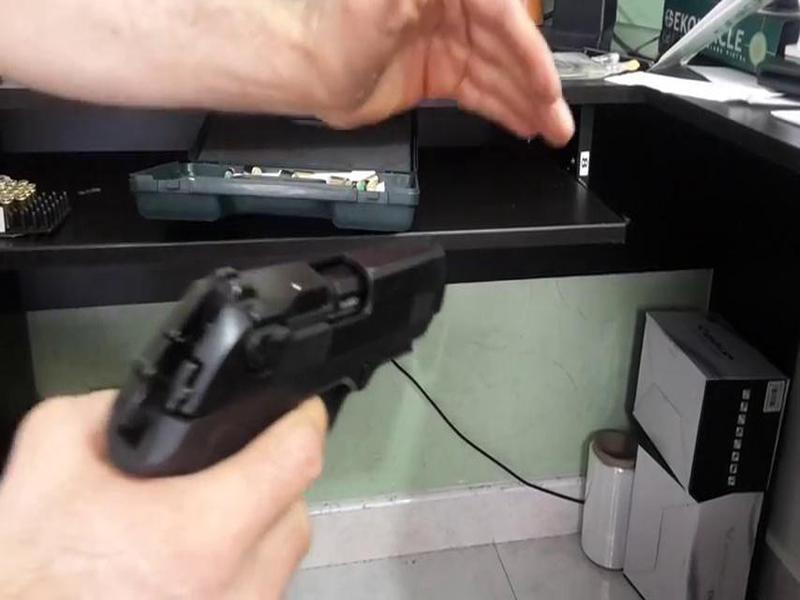Pistola: (101, 204, 473, 454)
